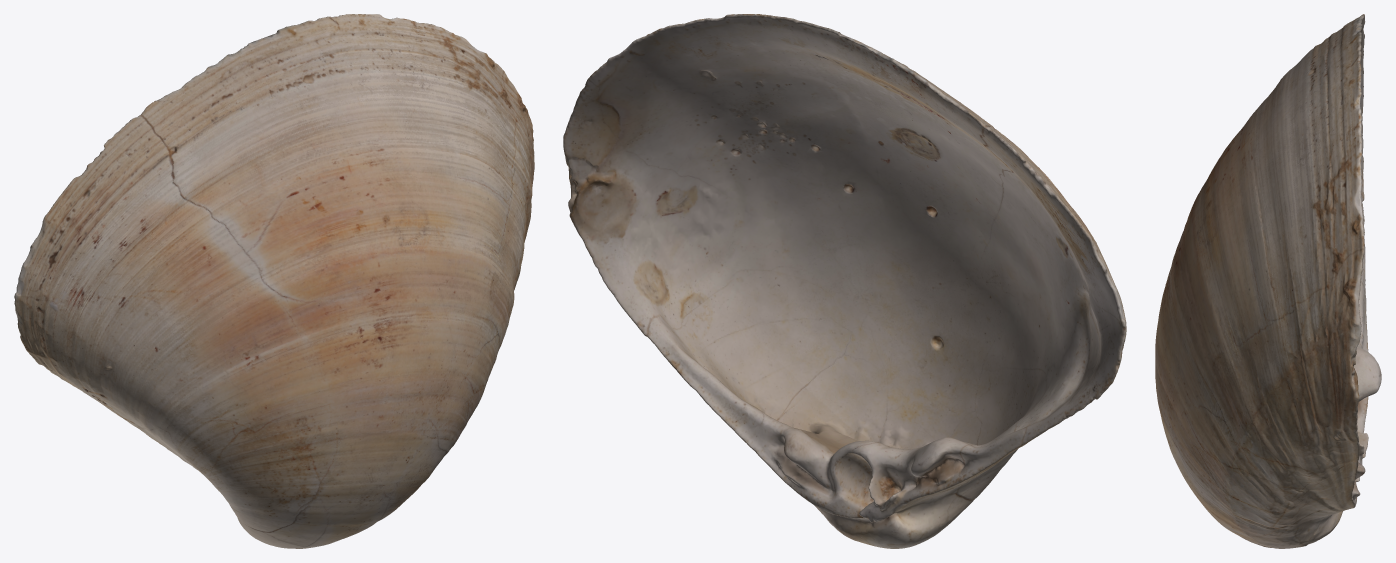
The model's file is EWS0004009.glb.
3 renders of one model, left to right at view 1: azimuth 30°, elevation 25°; view 2: azimuth 150°, elevation 25°; view 3: azimuth 270°, elevation 25°, orthographic. The views are drawn at different scales.
Visible parts, largest first — view 1: input; view 2: input; view 3: input.
Part boxes in pixels (bbox=[...]): input: bbox=[14, 14, 534, 548]; input: bbox=[563, 14, 1126, 548]; input: bbox=[1155, 14, 1381, 548].
Size of the model in its own units: 0.104 by 0.0939 by 0.0377.
Materials: 1 (1 with a texture image).
